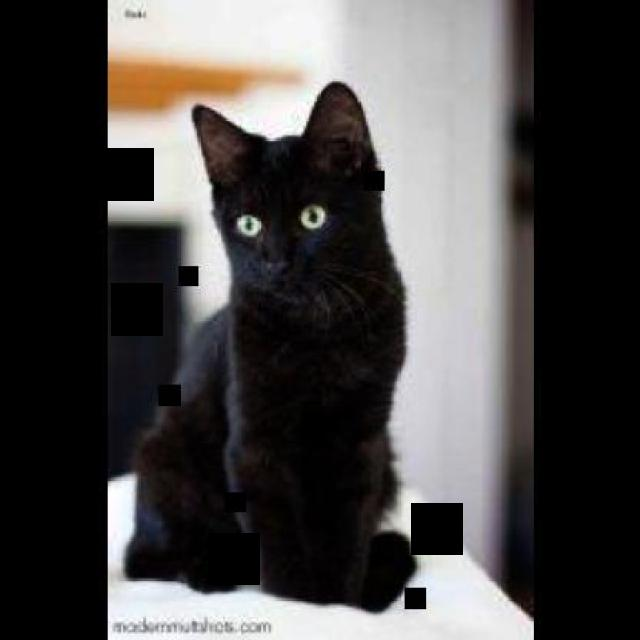unauthorized: (121, 78, 417, 612)
